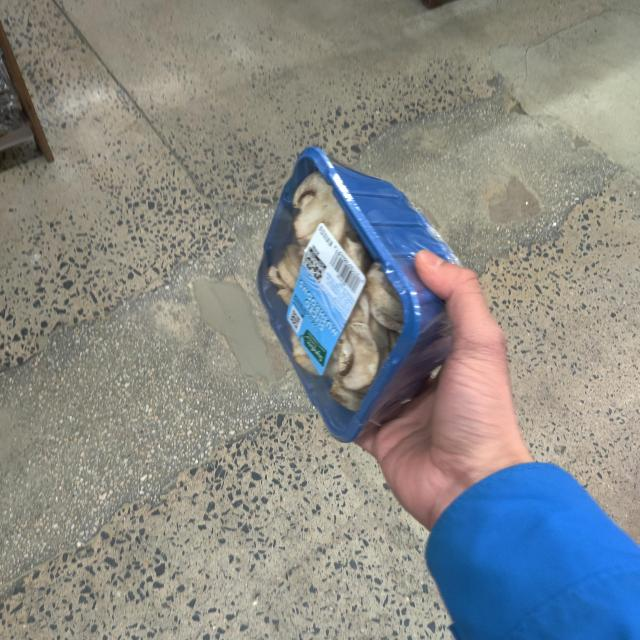Mushrooms: (261, 145, 459, 444)
